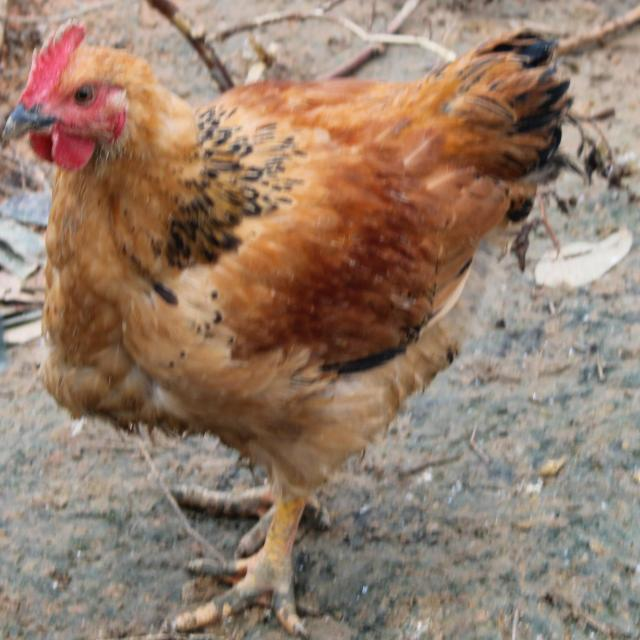hen: (3, 27, 572, 636)
